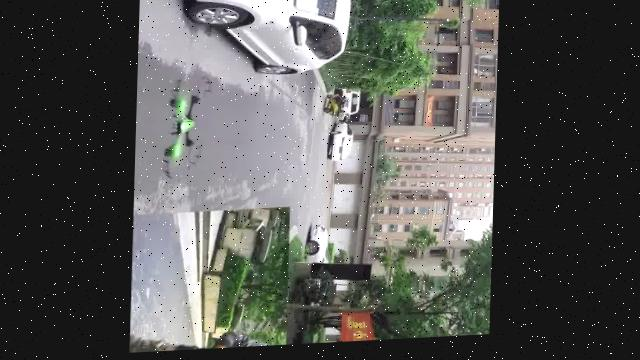drone: (157, 68, 224, 188)
